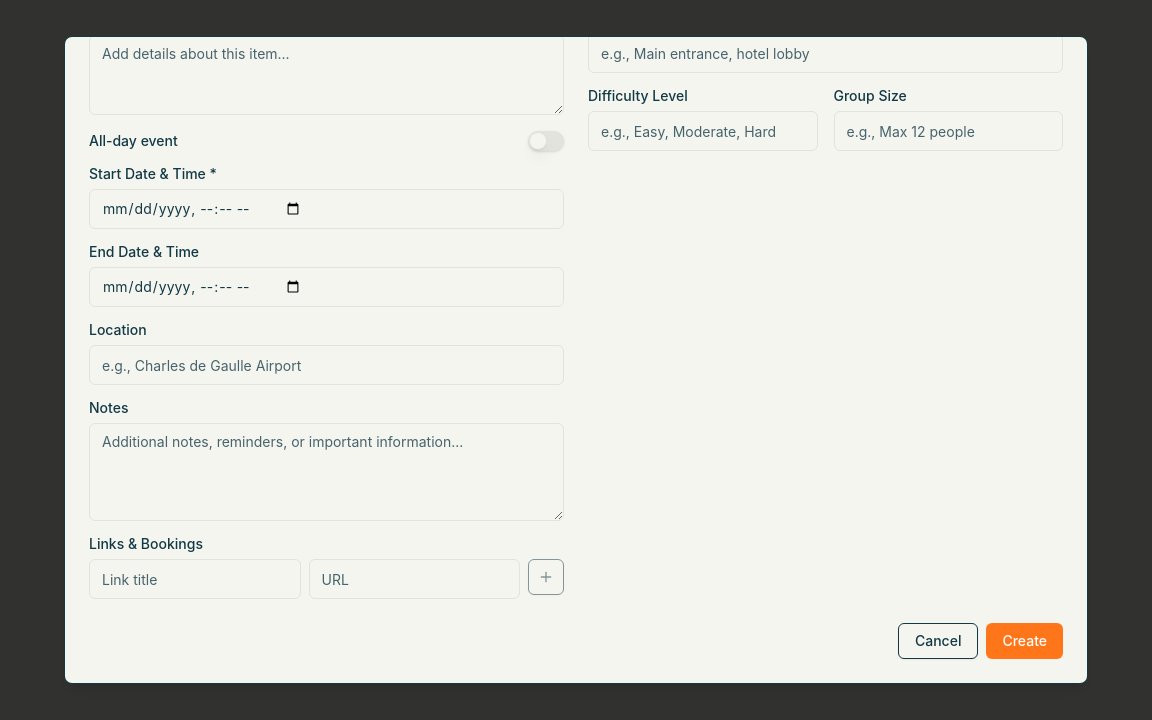
Test: ItineraryItemDialog › Create Mode › should allow adding and removing links
The image size is (1152, 720).
(page scrolled)
Type "Museum Website" into the field with placeholder "Link title" at (195, 579), box [89, 559, 300, 599]
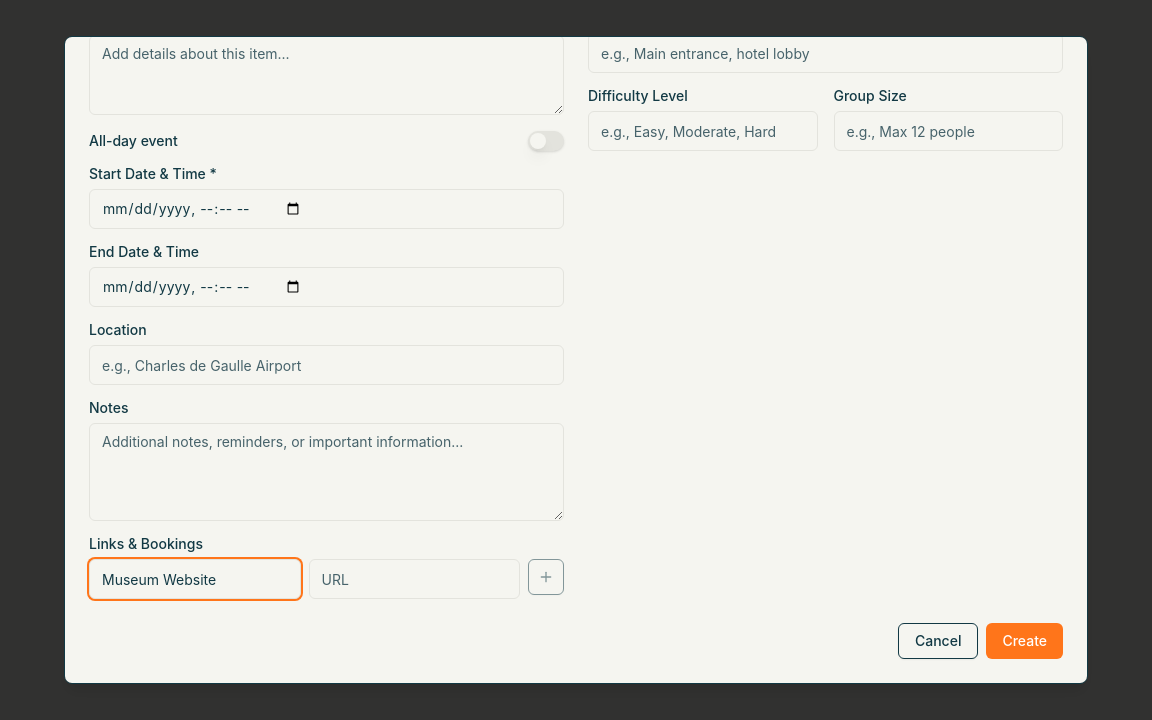
Type "https://museum.example.com" into the field with placeholder "URL" at (414, 579), box [308, 559, 520, 599]
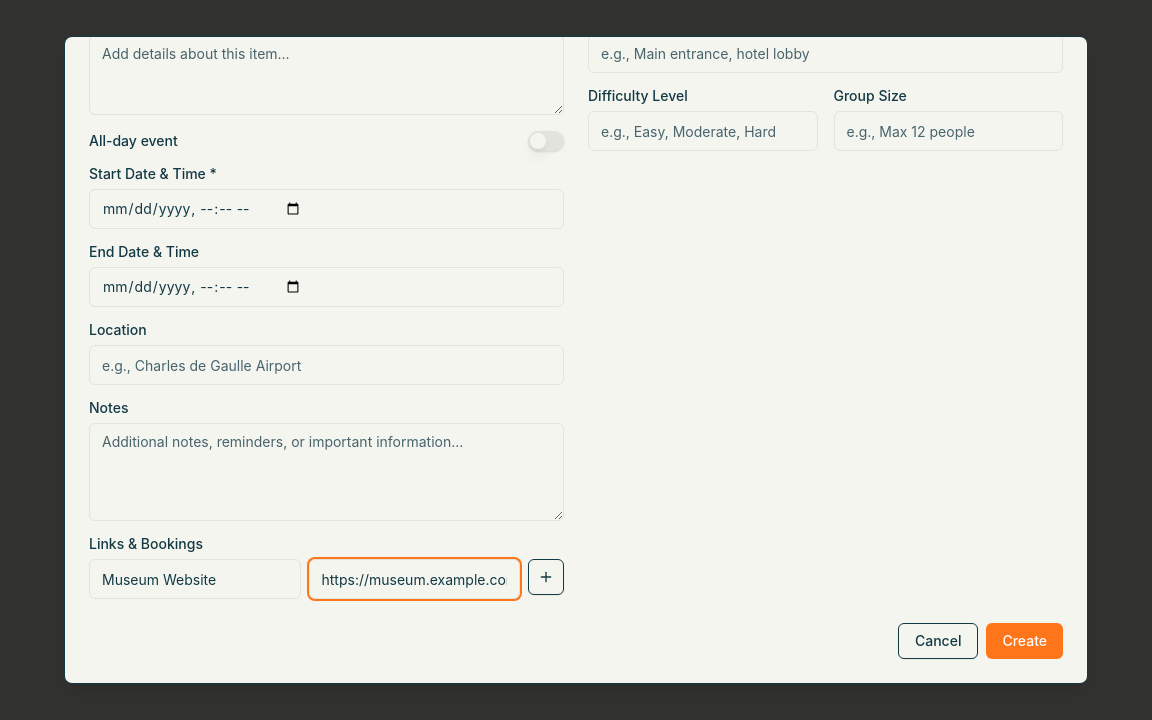
Click the button named "add link" at (546, 577), box [528, 559, 564, 595]
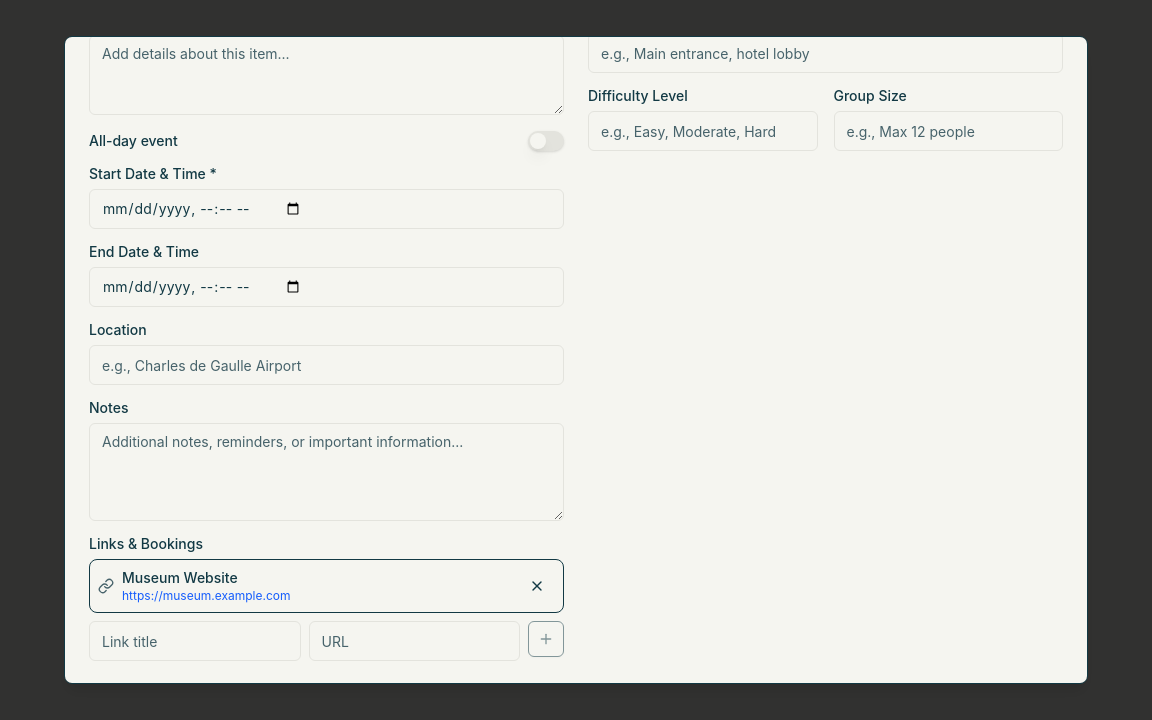
Now the text "Museum Website" is shown, box [122, 569, 238, 586]
Now the link "https://museum.example.com" is shown, box [122, 588, 290, 603]
Note: Remove link
Click the button named "remove link" at (537, 586), box [519, 568, 555, 604]
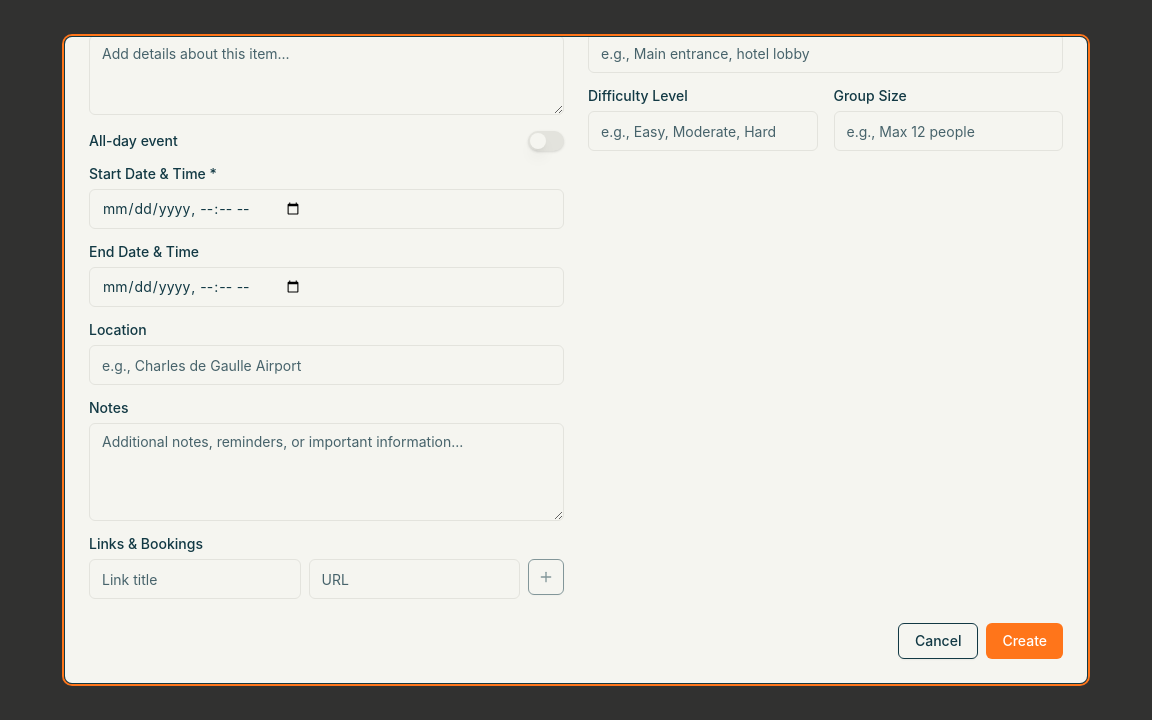
Now the text "Museum Website" is gone
